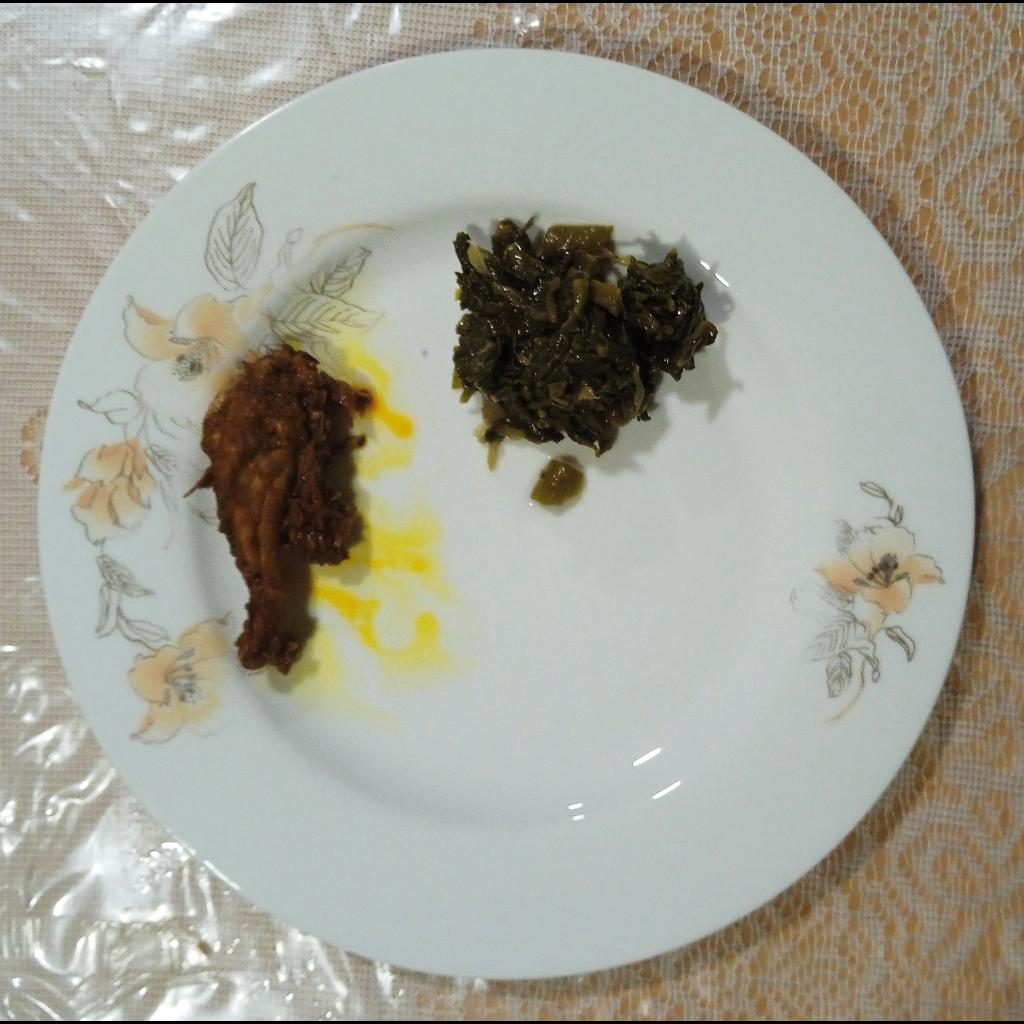chicken: (184, 337, 368, 673)
shak: (452, 213, 719, 467)
